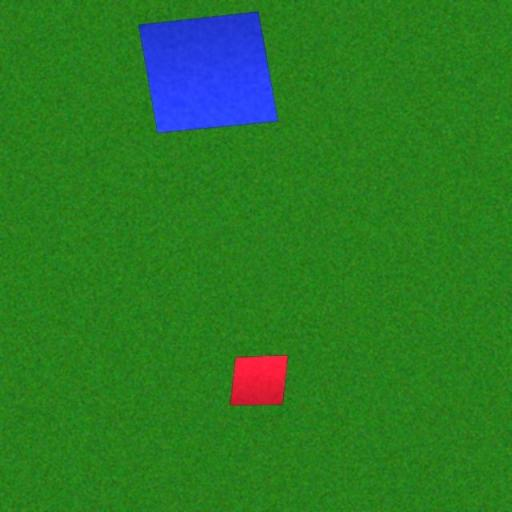BLUE_SQUARE: (138, 10, 279, 134)
RED_SQUARE: (230, 354, 288, 406)
